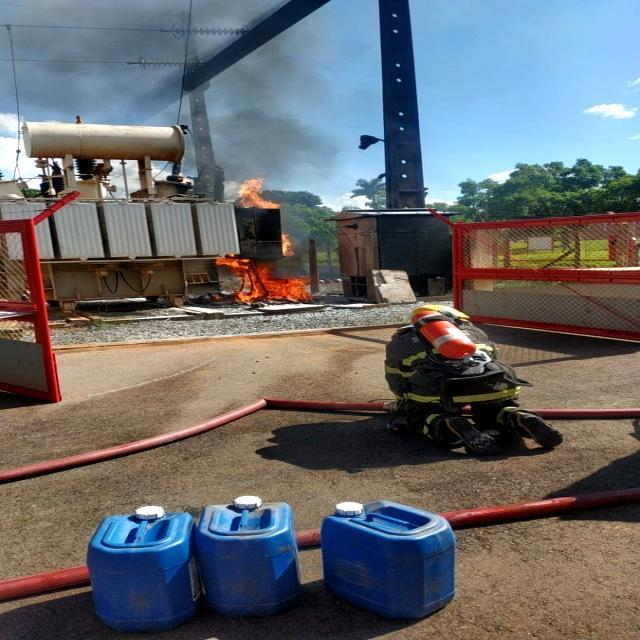Fire: (198, 250, 344, 310), (214, 178, 304, 212)
Smoke: (0, 0, 335, 175)
